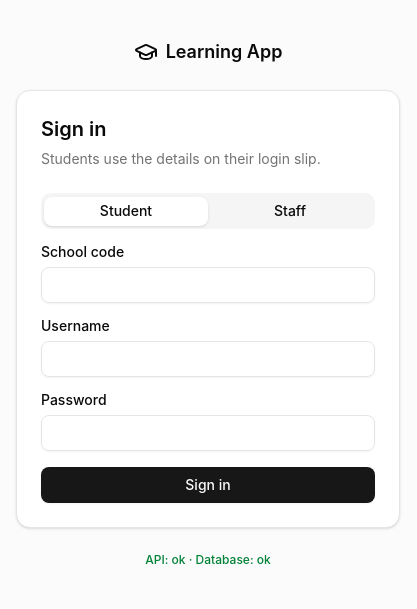
Test: LoginPage › explains when the sign-in service can't be reached
The image size is (417, 609).
Type "TST" into the field labelled "School code".
click(208, 285); type("TST")  # box [41,267,375,303]
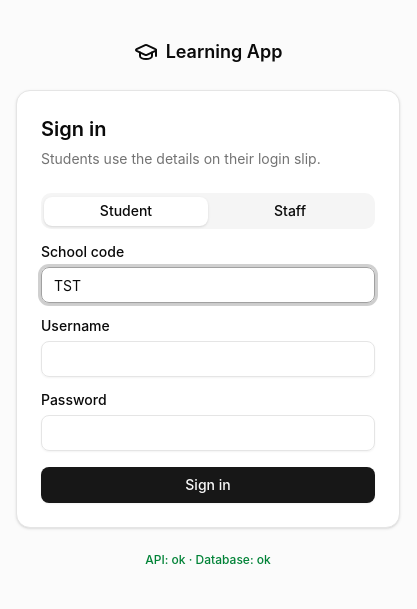
Type "a" into the field labelled "Username".
click(208, 359); type("a")  # box [41,341,375,377]
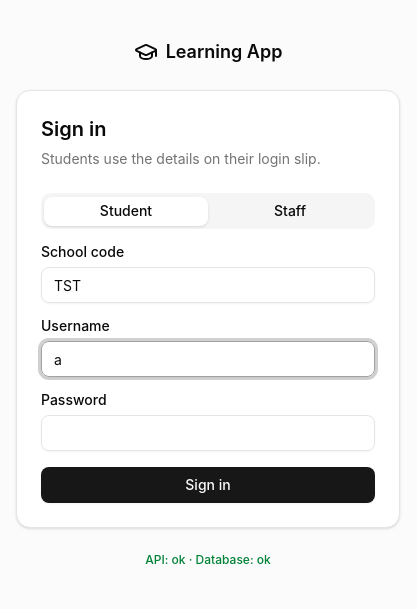
Type "b" into the password field labelled "Password".
click(208, 433); type("b")  # box [41,415,375,451]
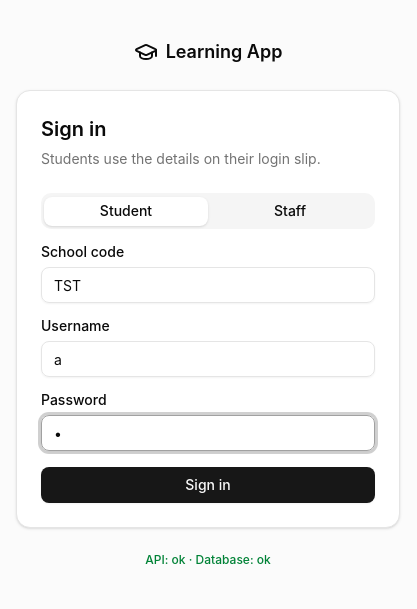
Click the button "Sign in".
click(208, 485)  # box [41,467,375,503]
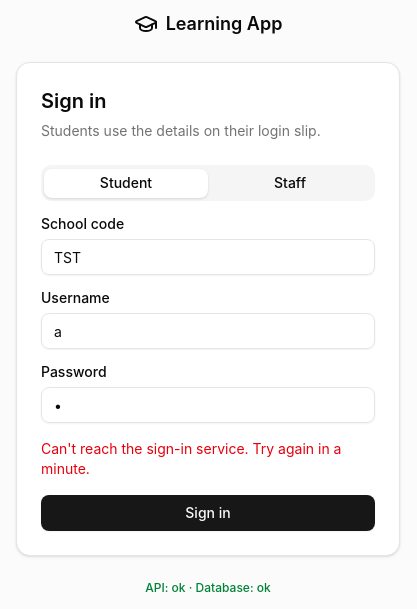
Now the message reads "Can't reach the sign-in service. Try again in a minute.", box [41,440,342,477]
